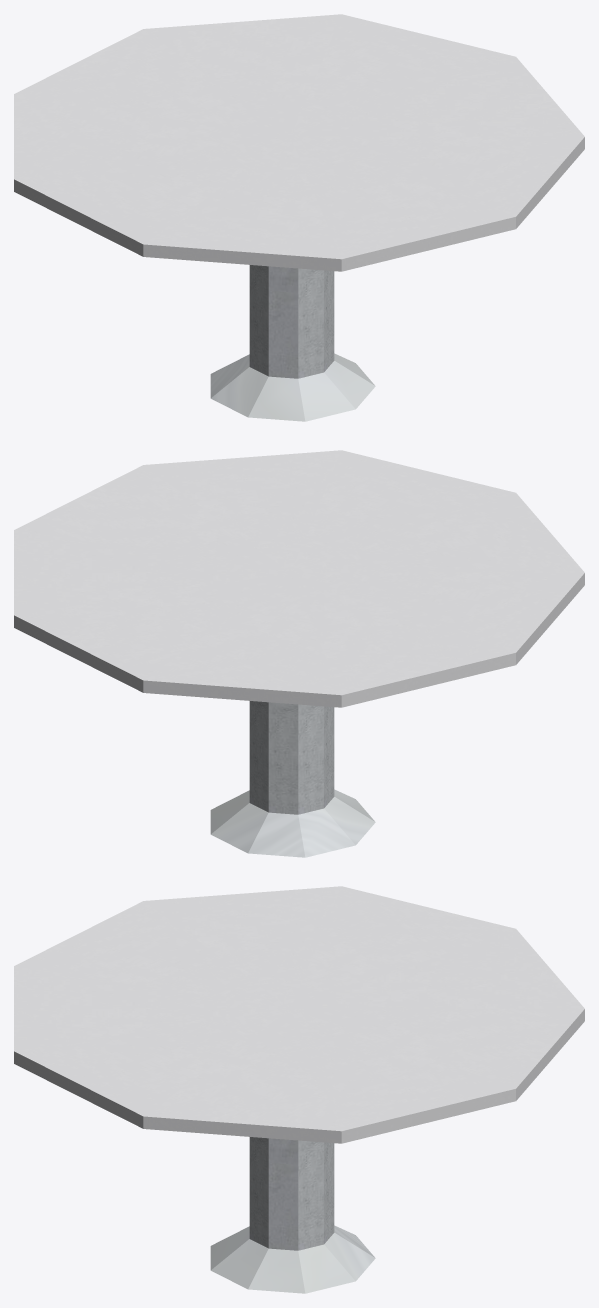
The model's file is plasticTable01.fbx.
3 views of the same model, one above another, from view 1: azimuth 30°, elevation 25°; view 2: azimuth 150°, elevation 25°; view 3: azimuth 270°, elevation 25° (orthographic).
Parts seen in each view (by area): view 1: Cube; view 2: Cube; view 3: Cube.
Part boxes in pixels (bbox=[...]): Cube: bbox=[14, 14, 584, 421]; Cube: bbox=[14, 450, 584, 857]; Cube: bbox=[14, 886, 584, 1293].
Bounding box in the file's own units: 197 × 93.54 × 194.
